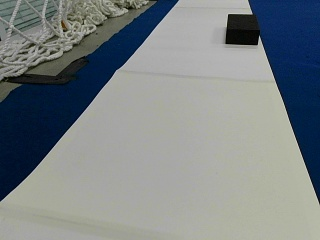block: (225, 13, 260, 44)
